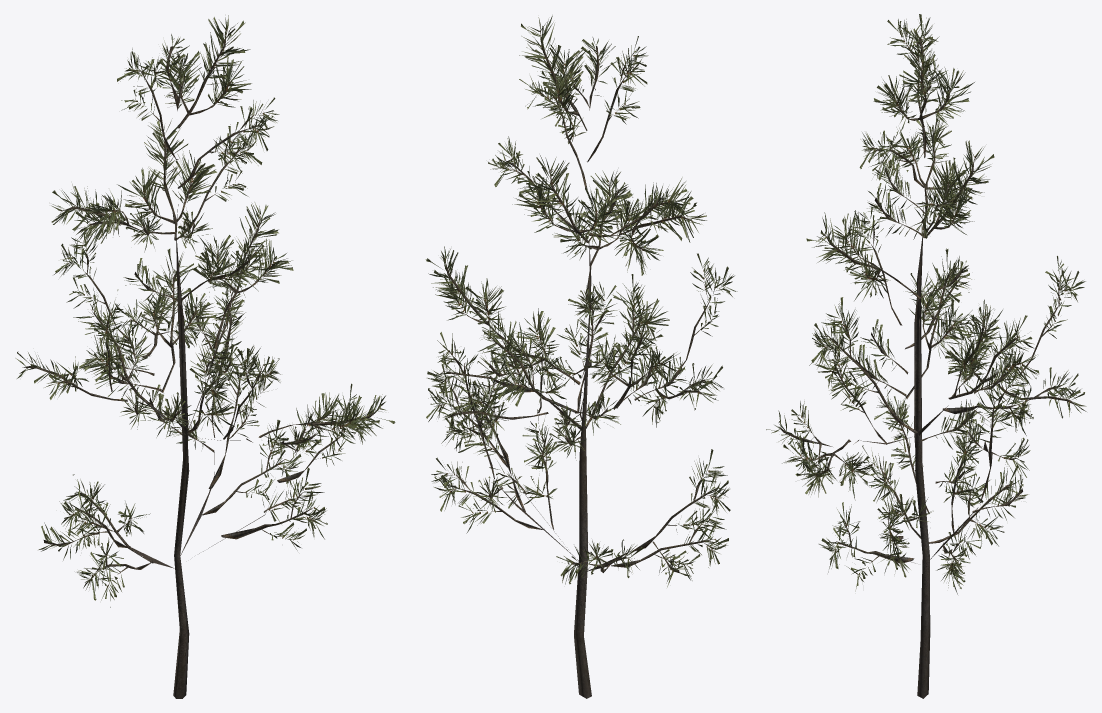
Rendered from yard-pine.glb.
3 renders of one model, left to right at view 1: azimuth 30°, elevation 25°; view 2: azimuth 150°, elevation 25°; view 3: azimuth 270°, elevation 25°, orthographic.
Parts seen in each view (by area): view 1: yard-pine; view 2: yard-pine; view 3: yard-pine.
Boxes of the visible parts, x1,y1,x2,y2 form: yard-pine: [15, 15, 395, 698]; yard-pine: [425, 15, 737, 698]; yard-pine: [766, 14, 1086, 698].
Bounding box in the file's own units: 1.75 × 3.44 × 1.5.
2 materials, 2 textured.
